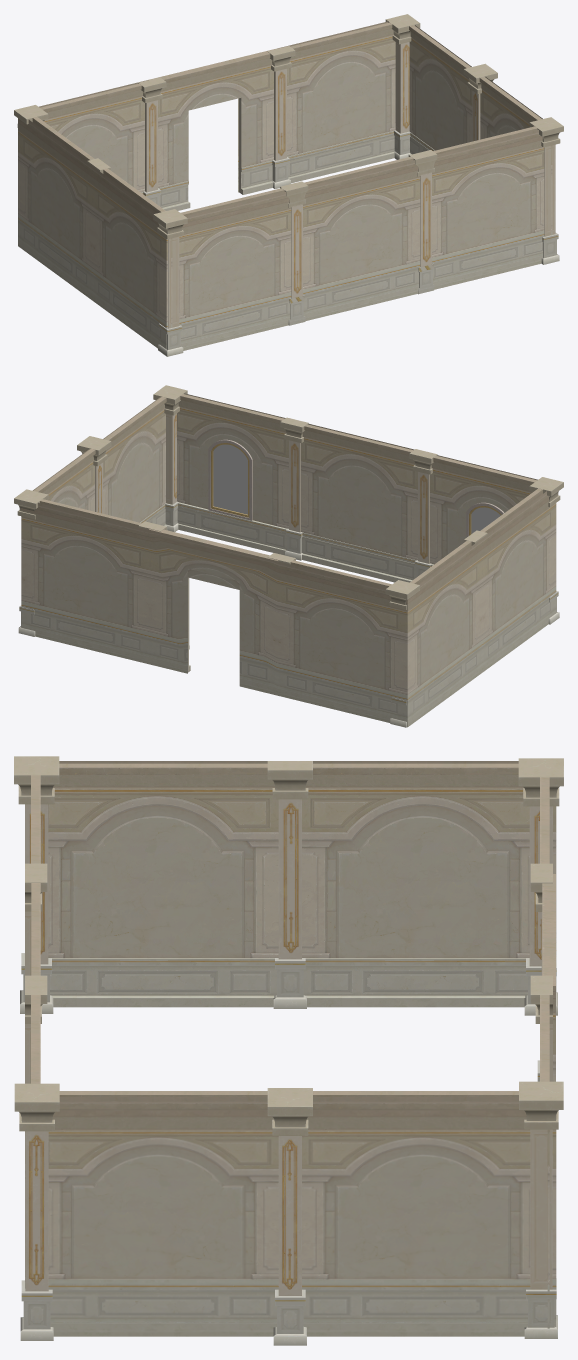
Rendered from Homeworld_Interior_Fd_Room_B_Wall_01_Vo.fbx.
3 renders of one model, top to bottom at view 1: azimuth 30°, elevation 25°; view 2: azimuth 150°, elevation 25°; view 3: azimuth 270°, elevation 25°, orthographic. The views are drawn at different scales.
Visible parts, largest first — view 1: Homeworld_Interior_Fd_Room_B_Filling_01_Vo, Homeworld_Interior_Fd_Room_Wall_01_Vo (×7), Homeworld_Interior_Fd_Room_Wall_06_Vo, Homeworld_Interior_Fd_Room_Pillar_01_Vo (×5), Homeworld_Interior_Fd_Room_Pillar_02_Vo (×4), Homeworld_Interior_Fd_Room_Wall_02_Vo (×2); view 2: Homeworld_Interior_Fd_Room_B_Filling_01_Vo, Homeworld_Interior_Fd_Room_Wall_01_Vo (×7), Homeworld_Interior_Fd_Room_Wall_02_Vo (×2), Homeworld_Interior_Fd_Room_Pillar_01_Vo (×5), Homeworld_Interior_Fd_Room_Pillar_02_Vo (×2), Homeworld_Interior_Fd_Room_Wall_06_Vo; view 3: Homeworld_Interior_Fd_Room_Wall_01_Vo (×7), Homeworld_Interior_Fd_Room_B_Filling_01_Vo, Homeworld_Interior_Fd_Room_Pillar_01_Vo (×5), Homeworld_Interior_Fd_Room_Pillar_02_Vo (×5), Homeworld_Interior_Fd_Room_Wall_02_Vo (×2), Homeworld_Interior_Fd_Room_Wall_06_Vo.
Part boxes in pixels (x1,y1,x2,y2): Homeworld_Interior_Fd_Room_B_Filling_01_Vo: (18, 21, 544, 350); Homeworld_Interior_Fd_Room_Wall_01_Vo (×7): (32, 22, 552, 327); Homeworld_Interior_Fd_Room_Wall_06_Vo: (148, 48, 277, 210); Homeworld_Interior_Fd_Room_Pillar_01_Vo (×5): (14, 14, 563, 356); Homeworld_Interior_Fd_Room_Pillar_02_Vo (×4): (138, 46, 437, 325); Homeworld_Interior_Fd_Room_Wall_02_Vo (×2): (180, 126, 537, 215); Homeworld_Interior_Fd_Room_B_Filling_01_Vo: (21, 393, 556, 727); Homeworld_Interior_Fd_Room_Wall_01_Vo (×7): (33, 396, 542, 587); Homeworld_Interior_Fd_Room_Wall_02_Vo (×2): (177, 394, 536, 566); Homeworld_Interior_Fd_Room_Pillar_01_Vo (×5): (14, 385, 563, 727); Homeworld_Interior_Fd_Room_Pillar_02_Vo (×2): (280, 417, 437, 577); Homeworld_Interior_Fd_Room_Wall_06_Vo: (149, 529, 278, 672); Homeworld_Interior_Fd_Room_Wall_01_Vo (×7): (25, 763, 555, 1328); Homeworld_Interior_Fd_Room_B_Filling_01_Vo: (48, 761, 556, 1336); Homeworld_Interior_Fd_Room_Pillar_01_Vo (×5): (14, 756, 563, 1345); Homeworld_Interior_Fd_Room_Pillar_02_Vo (×5): (25, 761, 552, 1083); Homeworld_Interior_Fd_Room_Wall_02_Vo (×2): (31, 775, 40, 1083); Homeworld_Interior_Fd_Room_Wall_06_Vo: (542, 874, 555, 1081).
Size of what is drawn, in the model's own units: 15.62 by 5.01 by 10.36.
